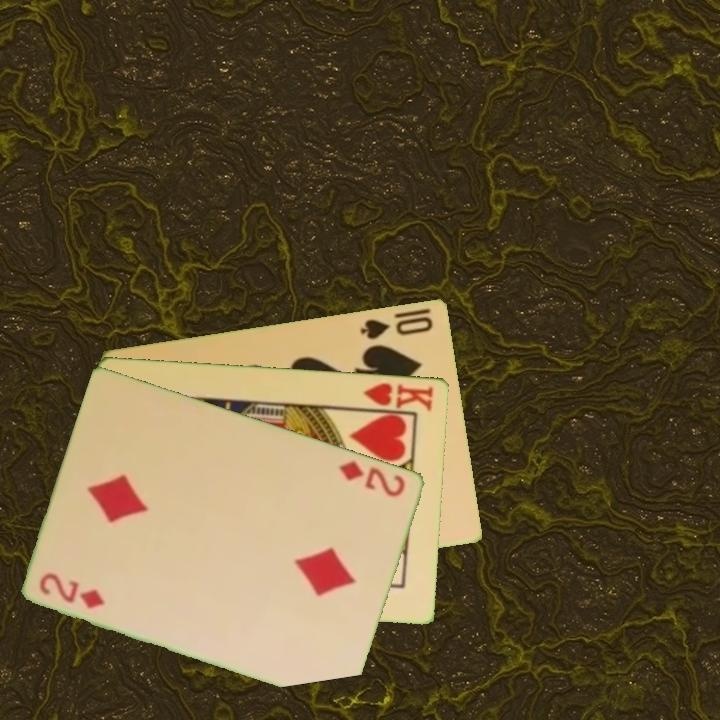10s: (357, 312, 436, 342)
2d: (335, 457, 409, 500), (36, 569, 109, 612)
Kh: (353, 379, 437, 414)
